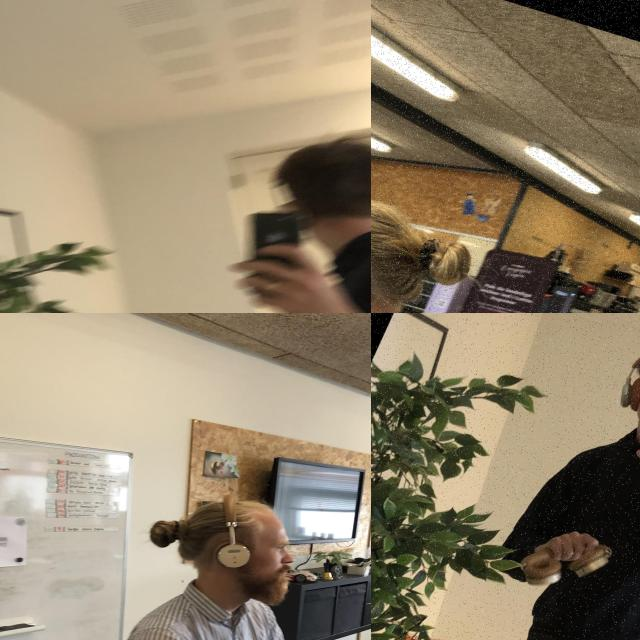Ear-protection: (371, 160, 473, 313), (178, 491, 296, 610), (272, 136, 371, 241), (598, 367, 640, 418)
person: (478, 323, 640, 640)
